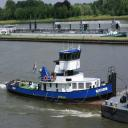tugboat: (7, 44, 119, 112)
